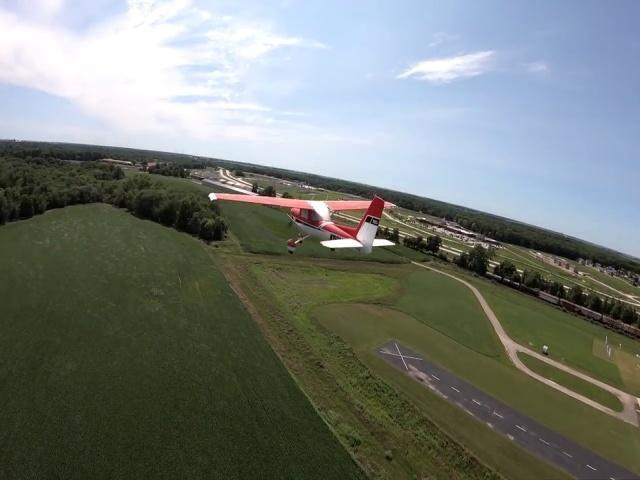Airplane: (203, 178, 400, 255)
